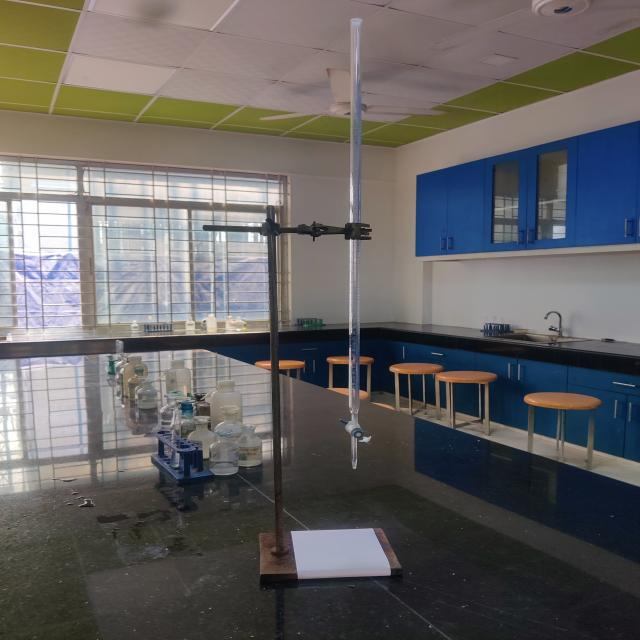Burette_Stands: (172, 190, 442, 618)
